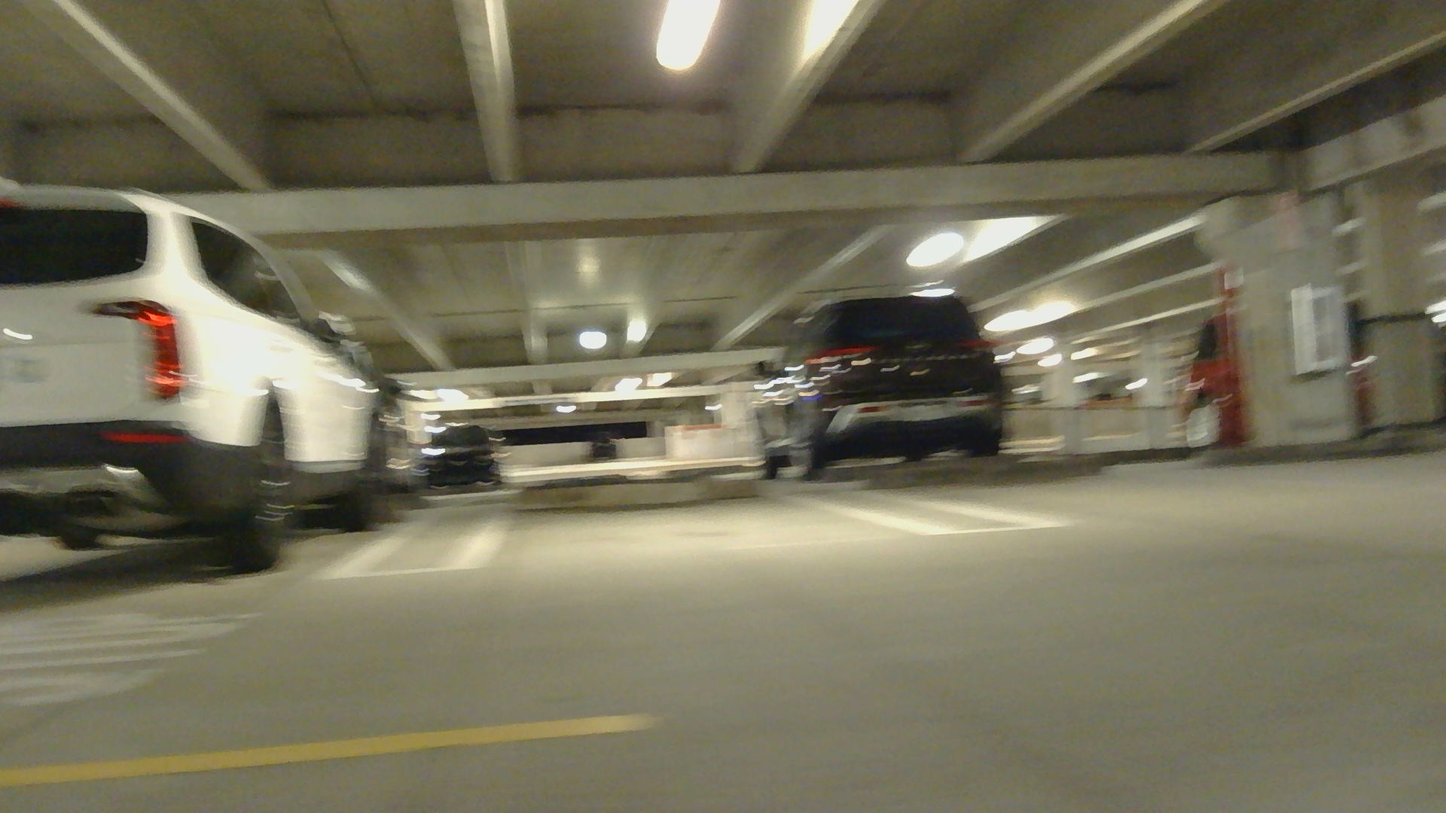empty_spot: (832, 437, 1446, 546), (403, 480, 971, 584)
occupied_spot: (0, 175, 391, 588)
